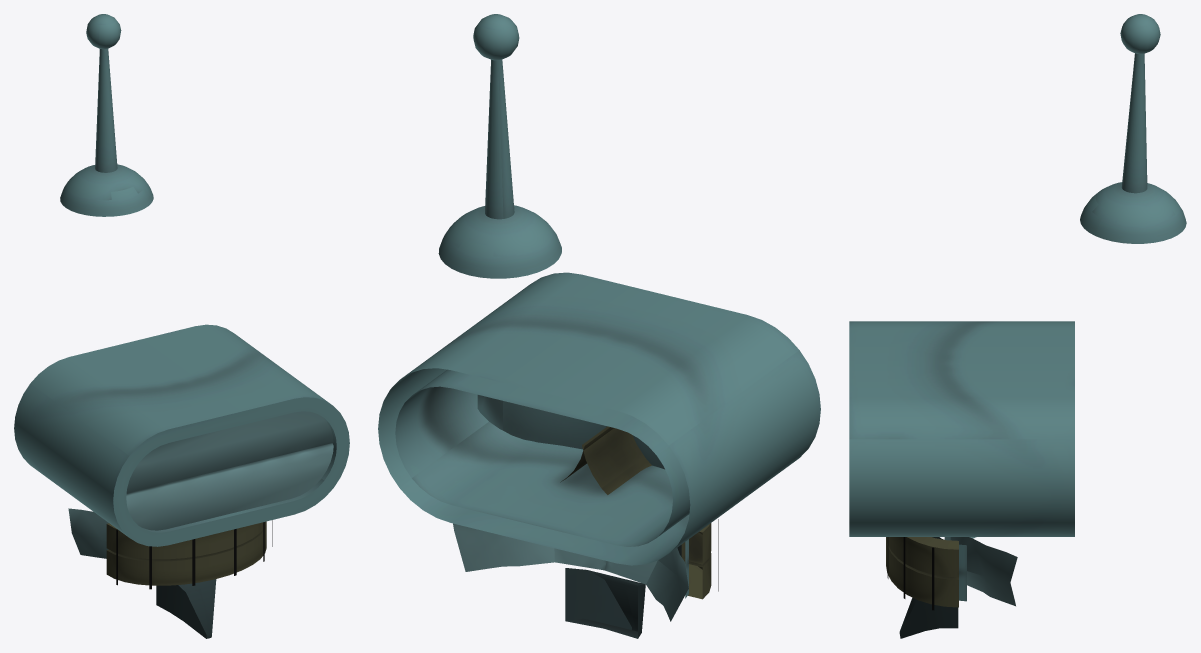
Rendered from flexo_decorators_sleep.obj.
3 views of the same model, side by side, from view 1: azimuth 30°, elevation 25°; view 2: azimuth 150°, elevation 25°; view 3: azimuth 270°, elevation 25° (orthographic). The views are drawn at different scales.
Visible parts, largest first — view 1: Flexo-Head, Default; view 2: Flexo-Head, Default; view 3: Flexo-Head, Default.
Boxes of the visible parts, x1,y1,x2,y2 form: Flexo-Head: (14,14,349,638); Default: (68,411,333,558); Flexo-Head: (378,14,820,638); Default: (453,523,688,621); Flexo-Head: (849,14,1186,638); Default: (944,537,1017,606).
Bounding box in the file's own units: 10.95 × 24.12 × 11.86.
Materials: 2 (2 with a texture image).
